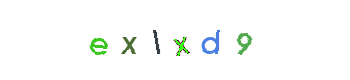9: (176, 0, 256, 80)
D: (171, 0, 251, 80)
E: (87, 0, 167, 80)
L: (135, 0, 215, 80)
X: (108, 0, 188, 80), (136, 0, 216, 80)
